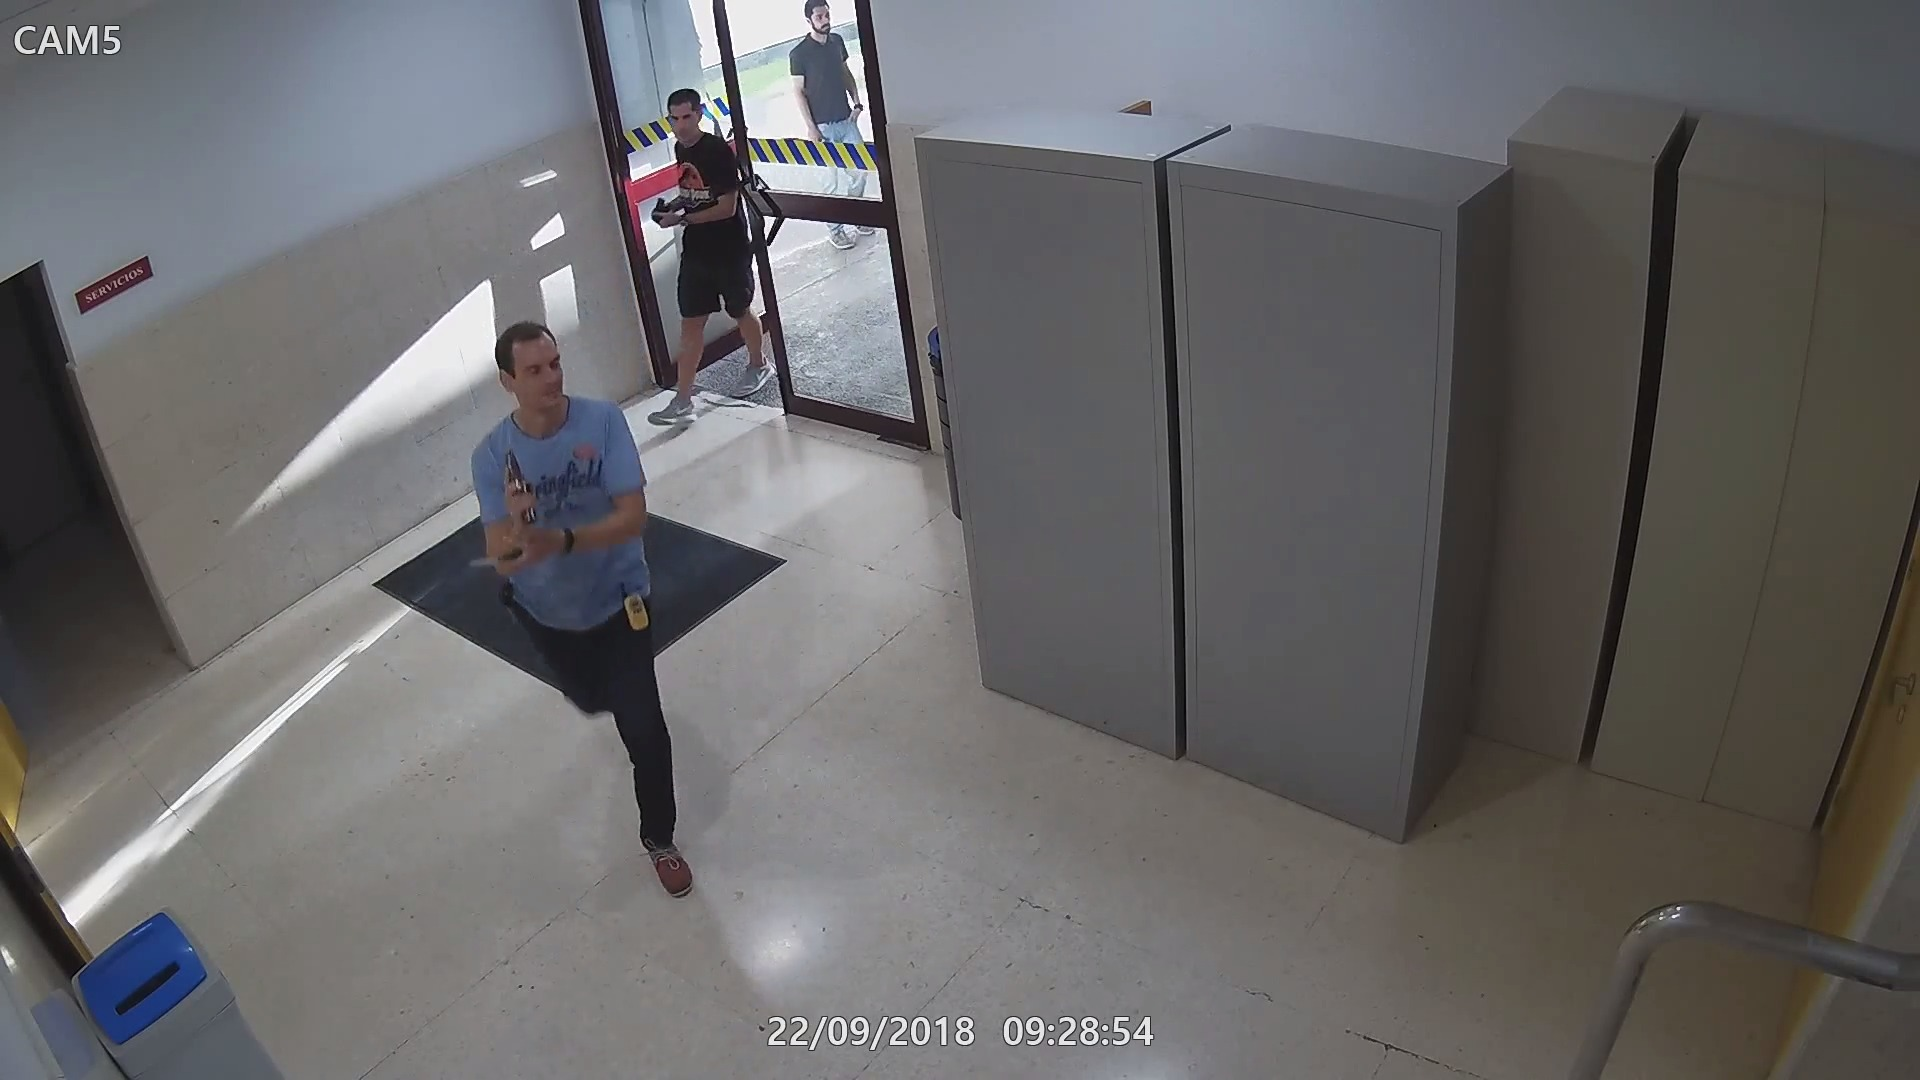Handgun: (501, 448, 543, 535), (649, 195, 683, 232)
Knife: (465, 531, 558, 578)
